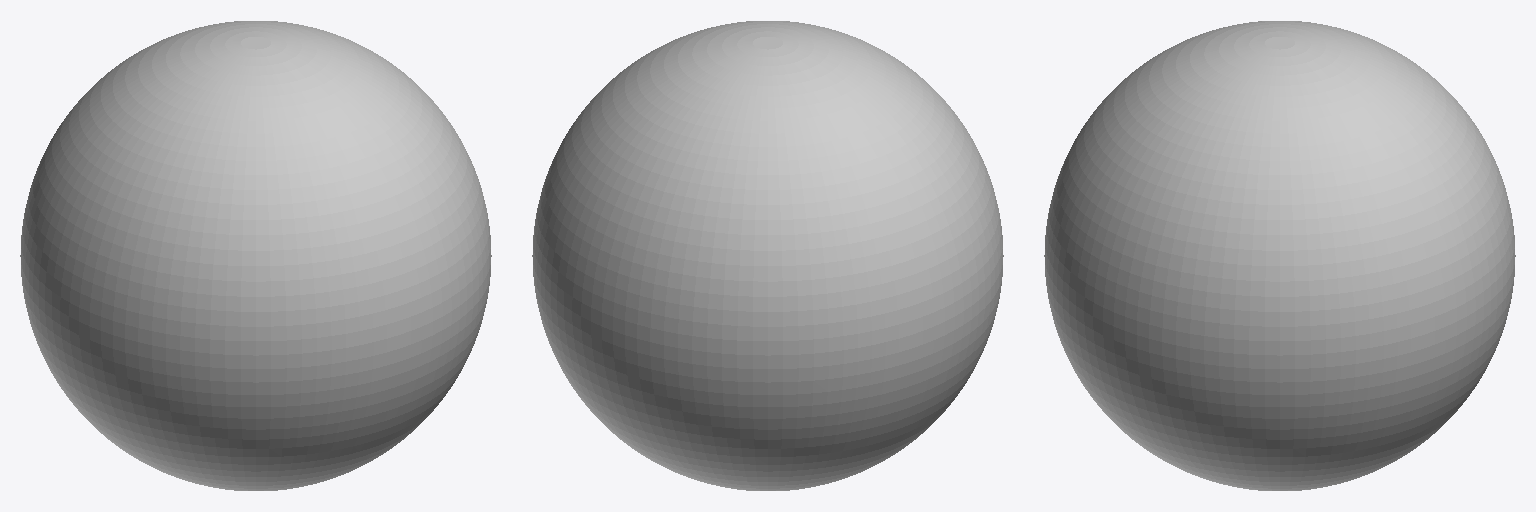
Rendered from moon.obj.
3 views of the same model, side by side, from view 1: azimuth 30°, elevation 25°; view 2: azimuth 150°, elevation 25°; view 3: azimuth 270°, elevation 25° (orthographic).
Visible parts, largest first — view 1: Sphere; view 2: Sphere; view 3: Sphere.
Part boxes in pixels (x1,y1,x2,y2): Sphere: (20, 21, 491, 490); Sphere: (532, 21, 1003, 490); Sphere: (1044, 21, 1515, 490).
Bounding box in the file's own units: 2 × 2 × 2.